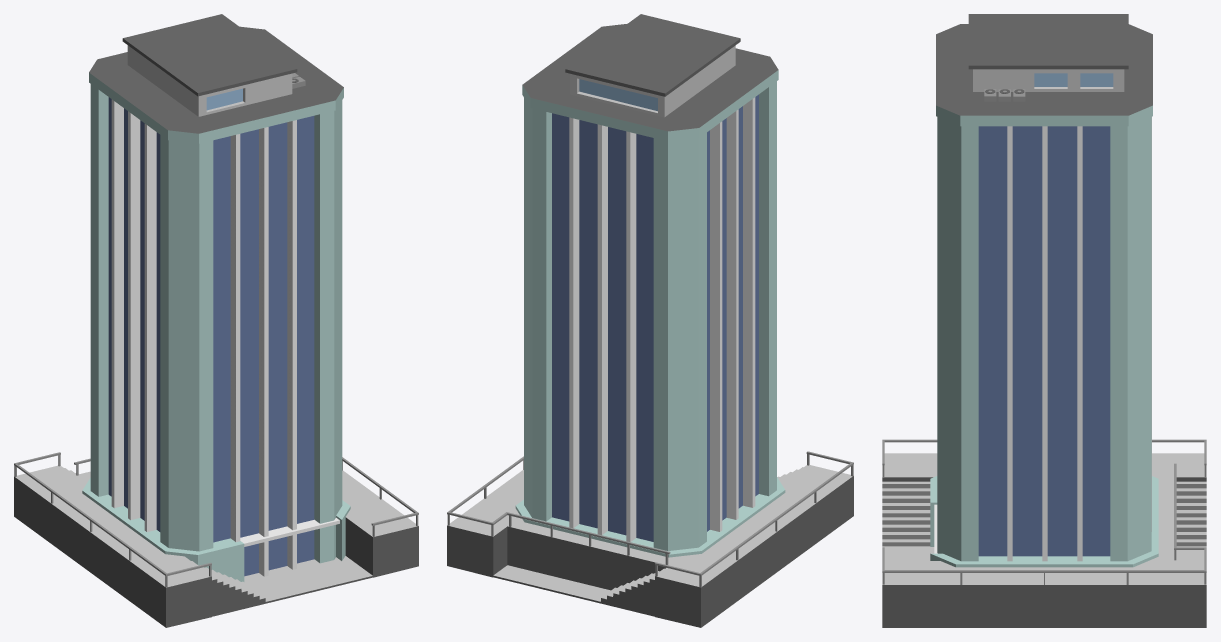
File: business_center_008.fbx
3 renders of one model, left to right at view 1: azimuth 30°, elevation 25°; view 2: azimuth 150°, elevation 25°; view 3: azimuth 270°, elevation 25°, orthographic. The views are drawn at different scales.
Visible parts, largest first — view 1: business_center_008; view 2: business_center_008; view 3: business_center_008.
Boxes of the visible parts, bbox=[...] form: business_center_008: bbox=[14, 14, 418, 627]; business_center_008: bbox=[447, 14, 853, 627]; business_center_008: bbox=[882, 14, 1206, 627].
Bounding box in the file's own units: 1434 × 2671 × 1495.
